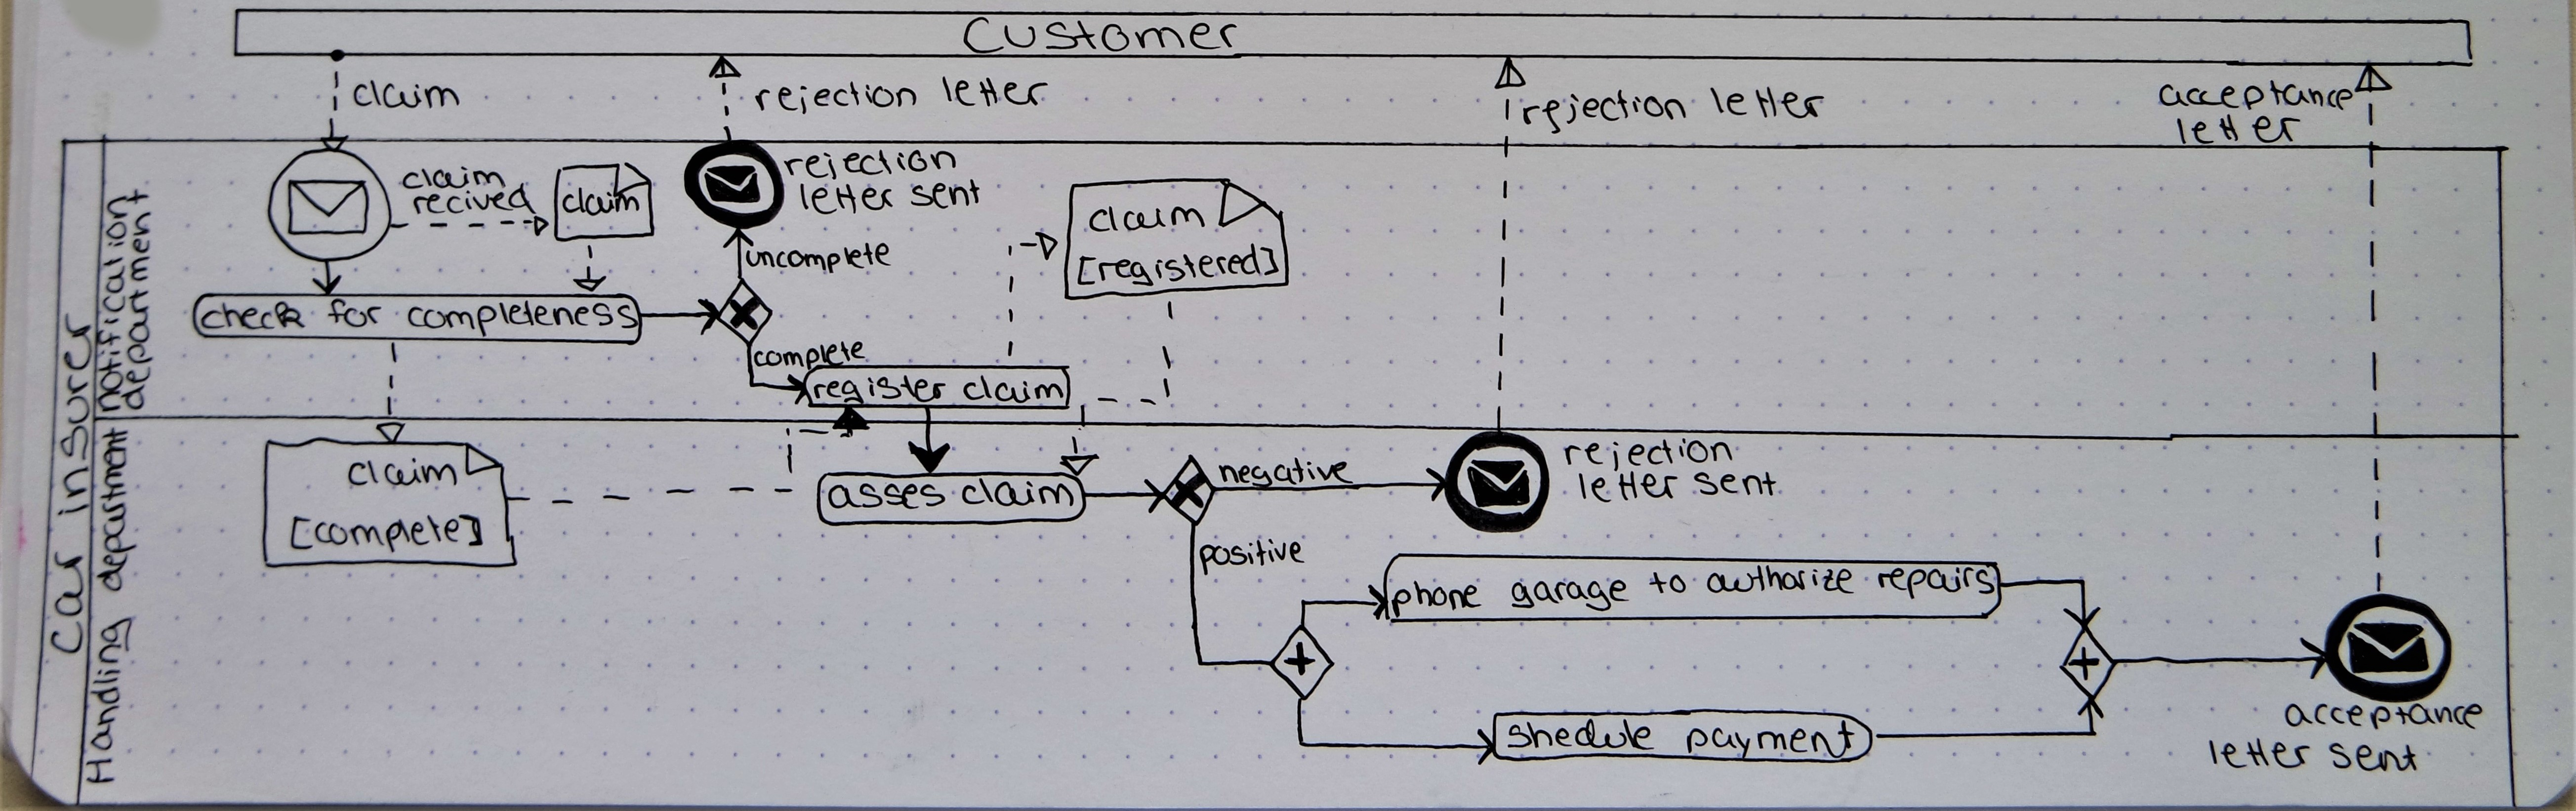Customer: (956, 13, 1242, 61)
Handling: (80, 612, 138, 790)
[complete]: (284, 507, 488, 558)
[registered]: (1071, 238, 1283, 292)
acceptance: (2154, 76, 2361, 118), (2280, 698, 2487, 734)
asses: (823, 479, 950, 514)
authorize: (1700, 560, 1861, 601)
car: (44, 547, 94, 660)
check: (195, 297, 312, 335)
claim: (1083, 199, 1212, 238), (956, 474, 1078, 514), (348, 72, 465, 113), (342, 453, 462, 493), (958, 371, 1068, 407), (398, 163, 511, 194), (559, 182, 646, 222)
complete: (749, 337, 869, 374)
completeness: (402, 297, 642, 340)
department: (115, 184, 159, 414), (92, 422, 143, 598)
for: (324, 296, 386, 332)
garage: (1506, 575, 1635, 616)
insurer: (53, 307, 97, 524)
letter: (1702, 79, 1833, 126), (2172, 108, 2307, 149), (936, 69, 1056, 113), (1572, 466, 1684, 509), (2203, 732, 2316, 773), (795, 177, 899, 218)
negative: (1214, 453, 1359, 491)
notification: (90, 192, 133, 419)
payment: (1681, 714, 1861, 763)
phone: (1388, 576, 1487, 619)
positive: (1194, 534, 1309, 581)
recived: (409, 179, 542, 222)
register: (808, 371, 953, 405)
rejection: (1515, 84, 1697, 140), (747, 74, 925, 121), (1557, 433, 1738, 478), (780, 144, 963, 186)
repairs: (1873, 561, 1999, 604)
sent: (2323, 737, 2423, 778), (1689, 466, 1782, 502), (905, 174, 986, 215)
shedule: (1500, 714, 1663, 755)
to: (1644, 568, 1692, 599)
uncomplete: (743, 236, 897, 277)
